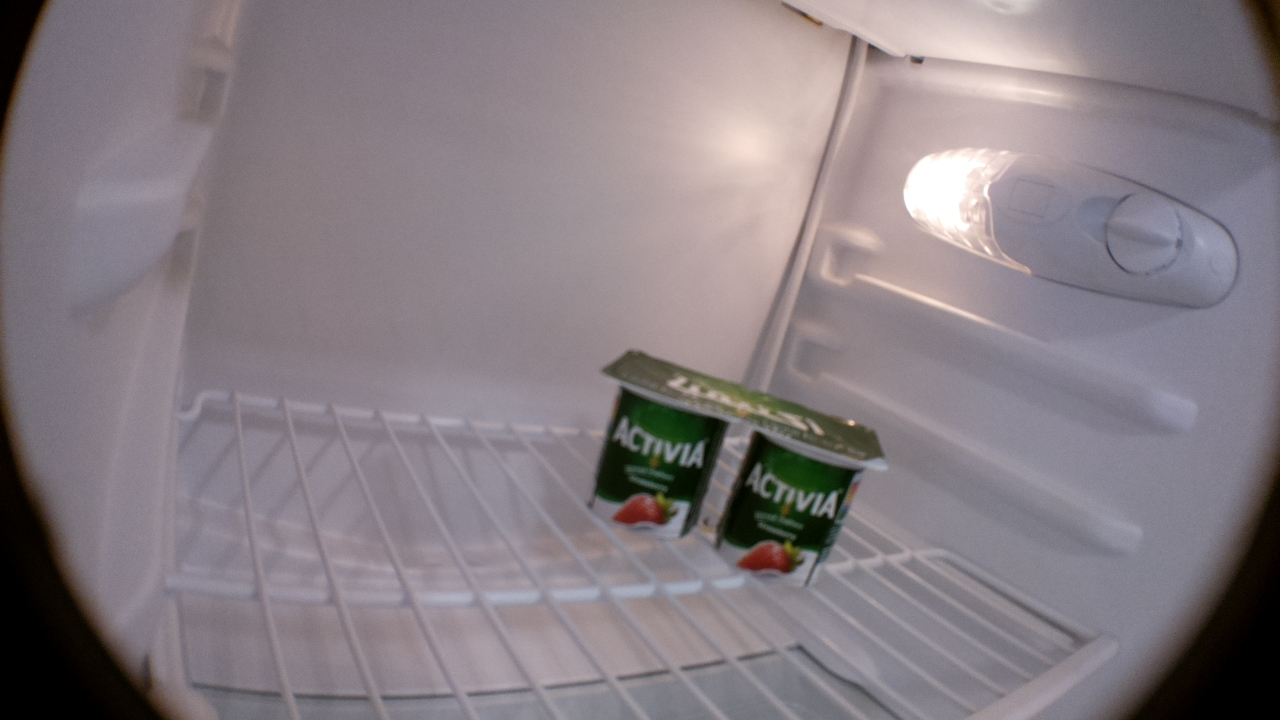yoghurt: (712, 390, 891, 592), (583, 349, 740, 542)
